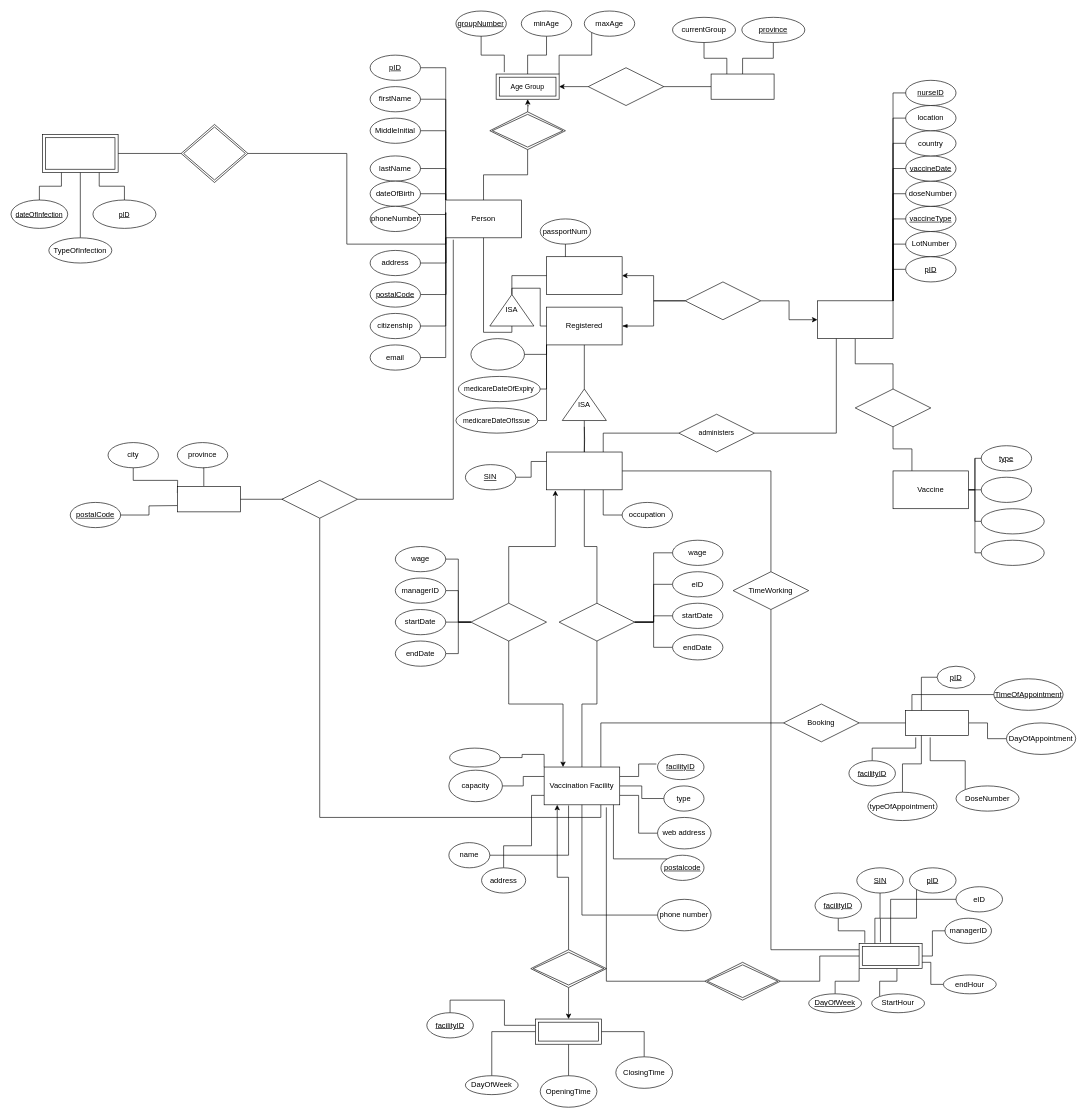
Image size: 1087x1118. Some labels were removed from this diagram. The shapes that lost their labels are listed below. From the top down, each one's centre as x and y in pixels, then its label:
At (626,86): "Eligibility".
At (742,86): "VaccineGroup".
At (527,130): "BelongsTo".
At (80,153): "InfectionHistory".
At (214,153): "infectedBy".
At (584,275): "Unregistered".
At (722,300): "hasBeenVaccinated".
At (855,319): "VaccineRecord".
At (497,354): "medicareNum".
At (893,407): "Uses".
At (584,470): "PublicHealthWorker".
At (1006,489): "status".
At (208,499): "Area".
At (319,499): "locatedAt".
At (1012,521): "dateOfApproval".
At (1012,552): "dateOfSuspension".
At (508,622): "manages".
At (596,622): "worksAt".
At (937,723): "BookingSlots".
At (474,757): "Category".
At (568,968): "Operations".
At (890,956): "Shifts".
At (742,981): "Schedule".
At (568,1031): "OperatingHours".
